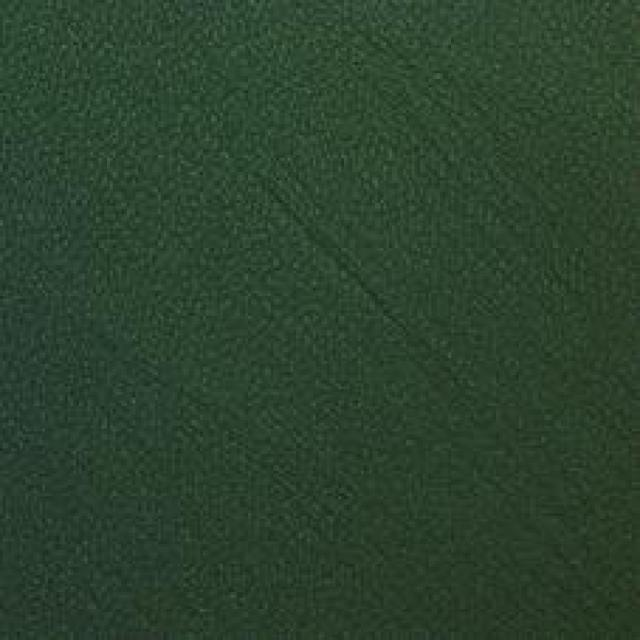Growth Marks: (197, 147, 436, 346), (370, 28, 572, 245)
